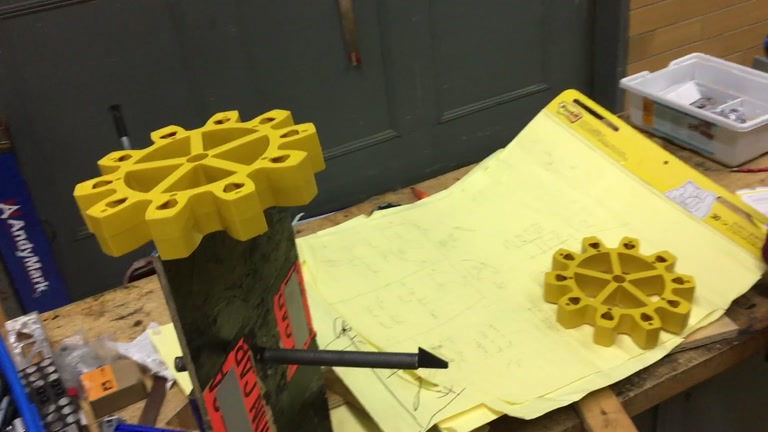gear: (72, 105, 326, 260), (544, 234, 697, 350)
